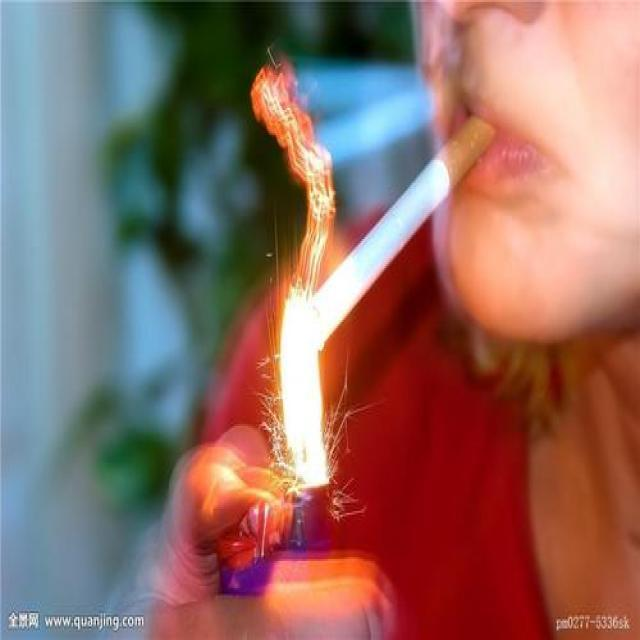rokok: (297, 115, 497, 348)
